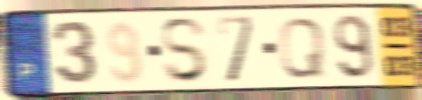3: (48, 19, 99, 88)
7: (217, 14, 255, 84)
9: (331, 13, 377, 81), (105, 19, 145, 85)
Q: (277, 15, 327, 81)
S: (158, 15, 211, 86)
